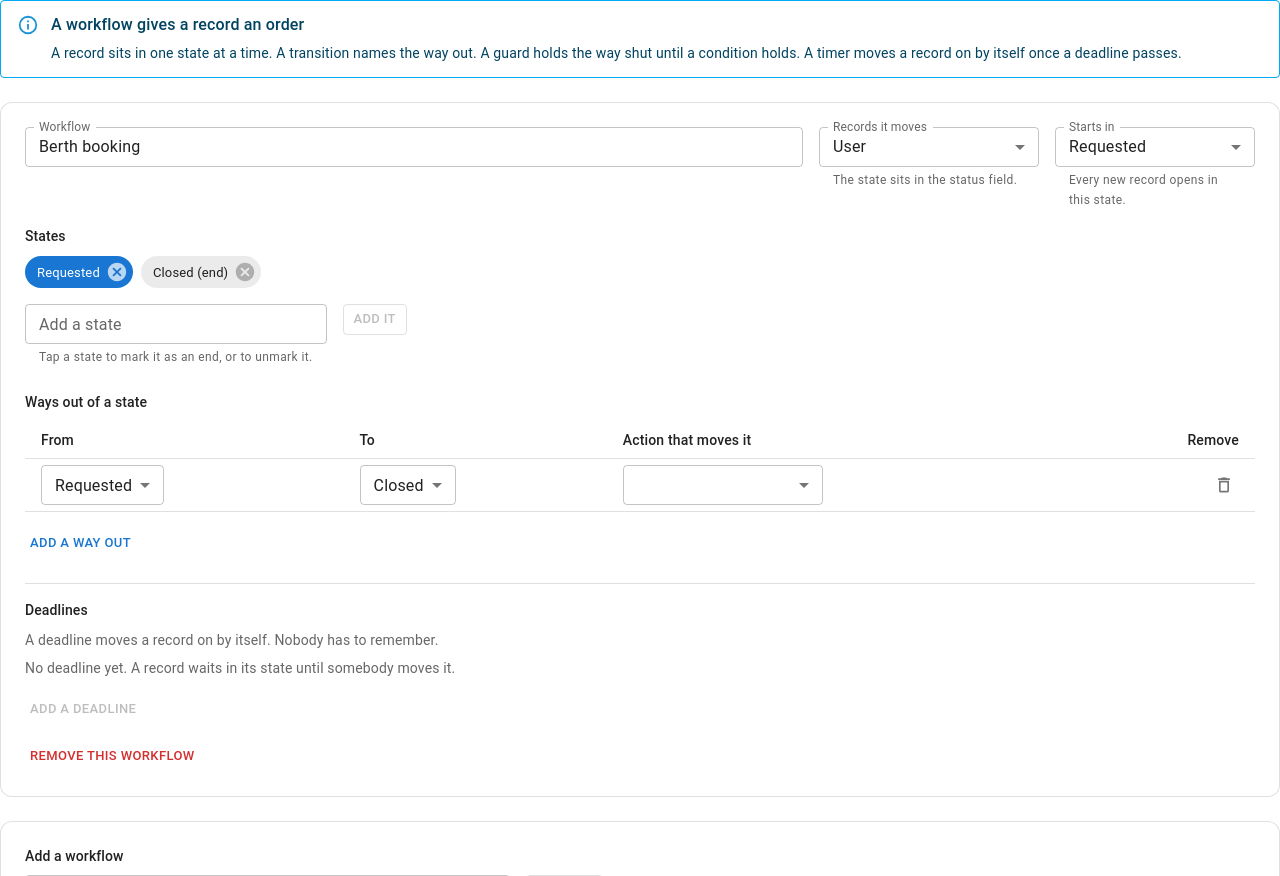
Test case: the workflow editor over a held workflow › moves the workflow to another collection and finds the field that holds the state
Press the mouse on the dropdown named "Records it moves" at (850, 147), box [833,137,866,156]
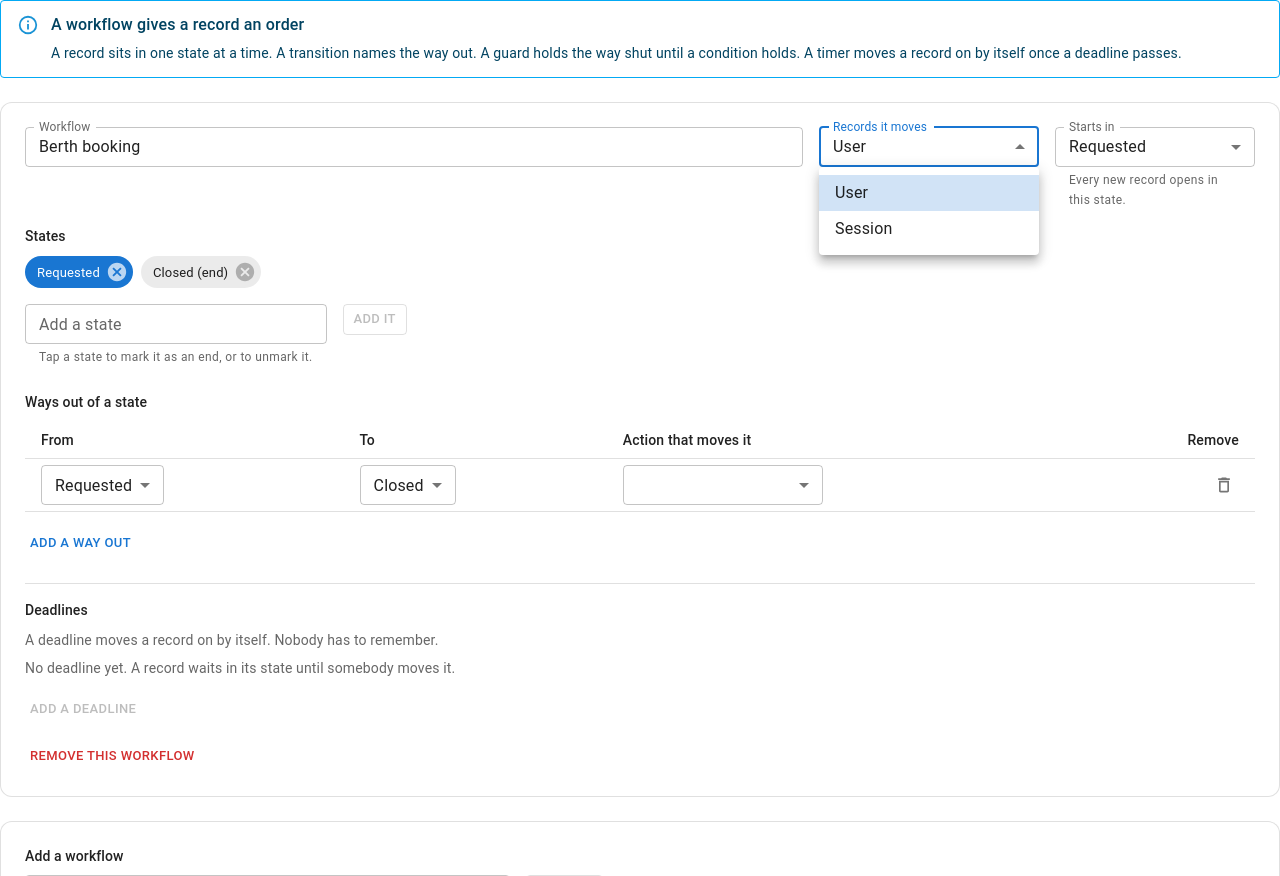
Click the option "Session". click: (864, 228)
box: [835,219,892,238]
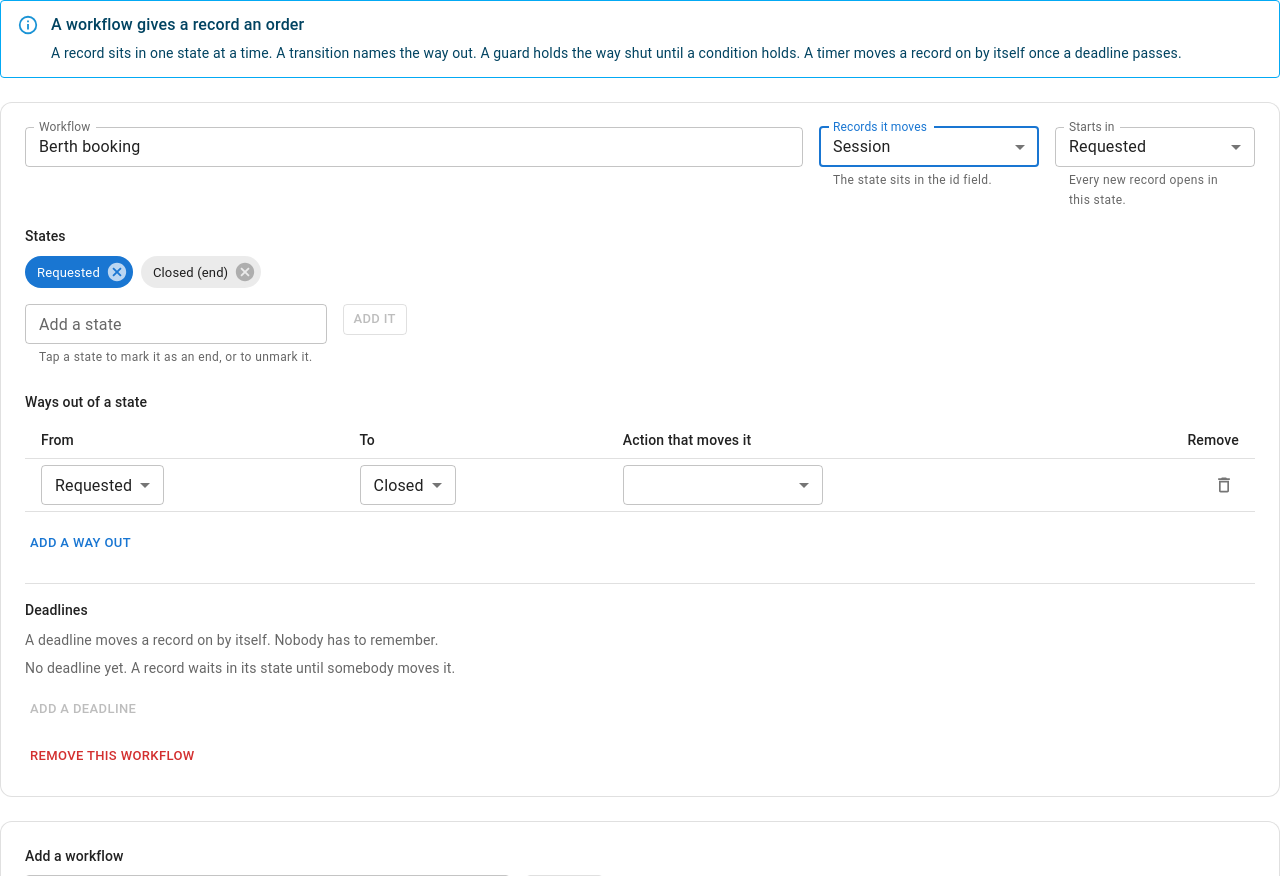
Result: the list is gone
Result: the text "The state sits in the id field." is shown at [833,173,992,187]
